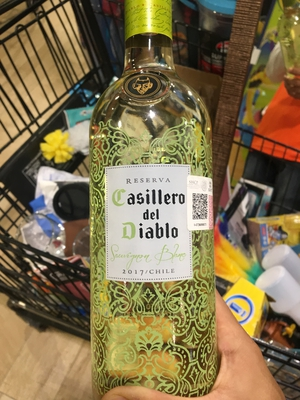casillero del diablo sauvignon blanc: (82, 16, 224, 387)
